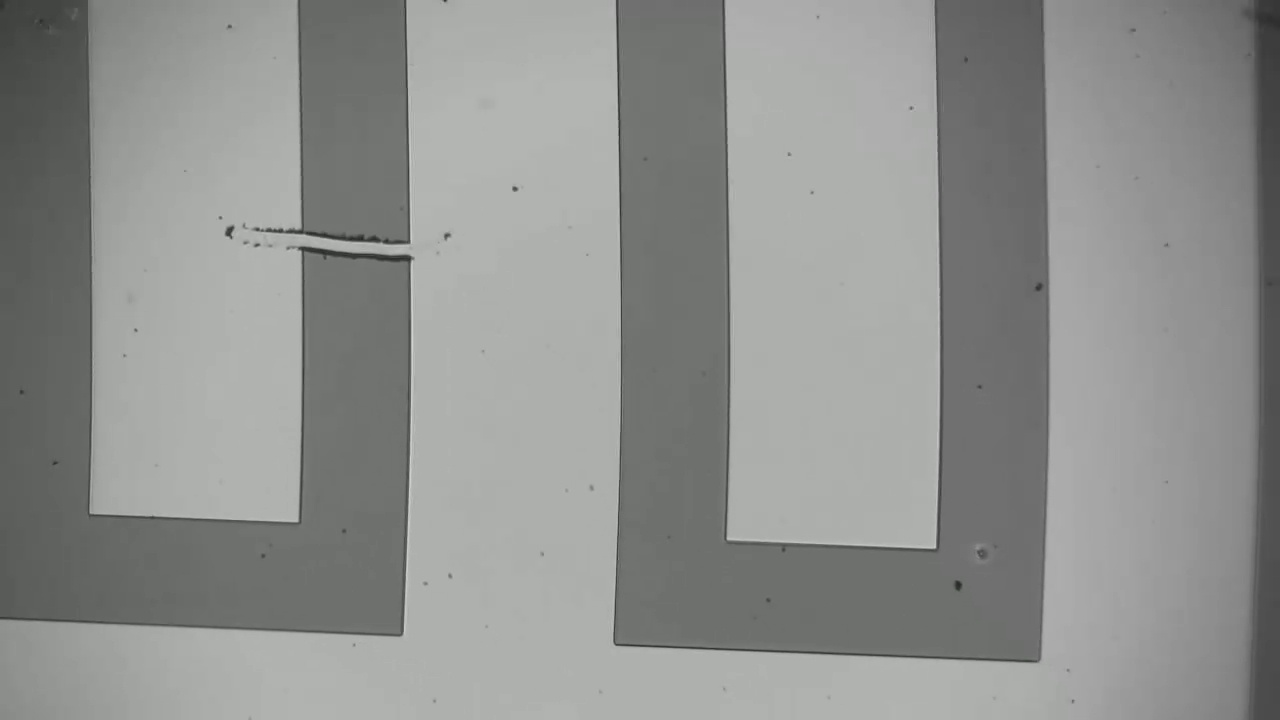Short_circuit: (265, 211, 435, 274)
